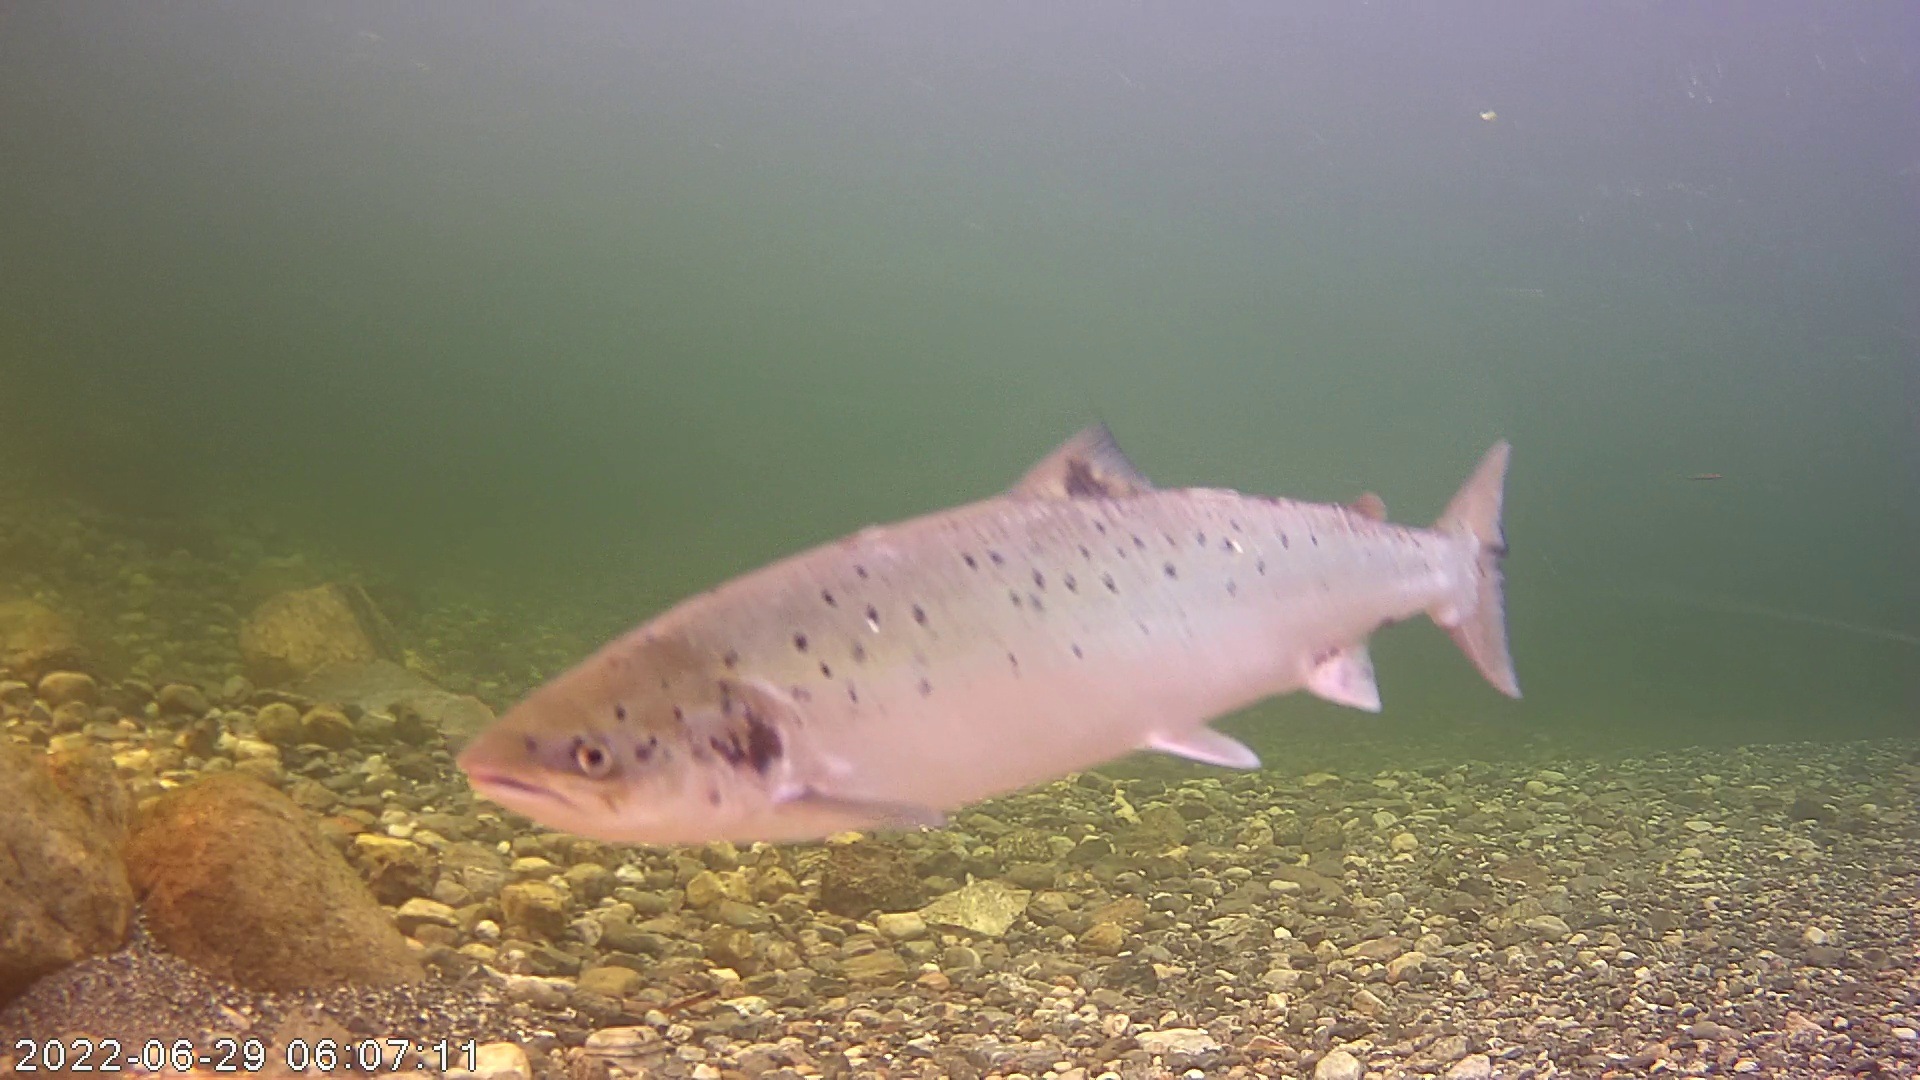salmon: (477, 351, 1524, 832)
